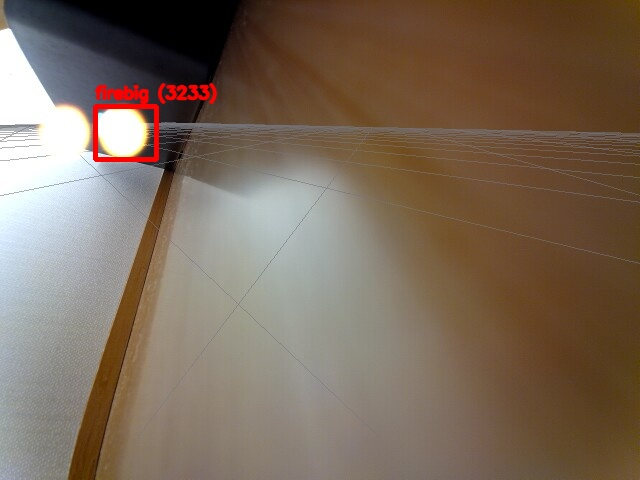firebig: (95, 106, 156, 159)
